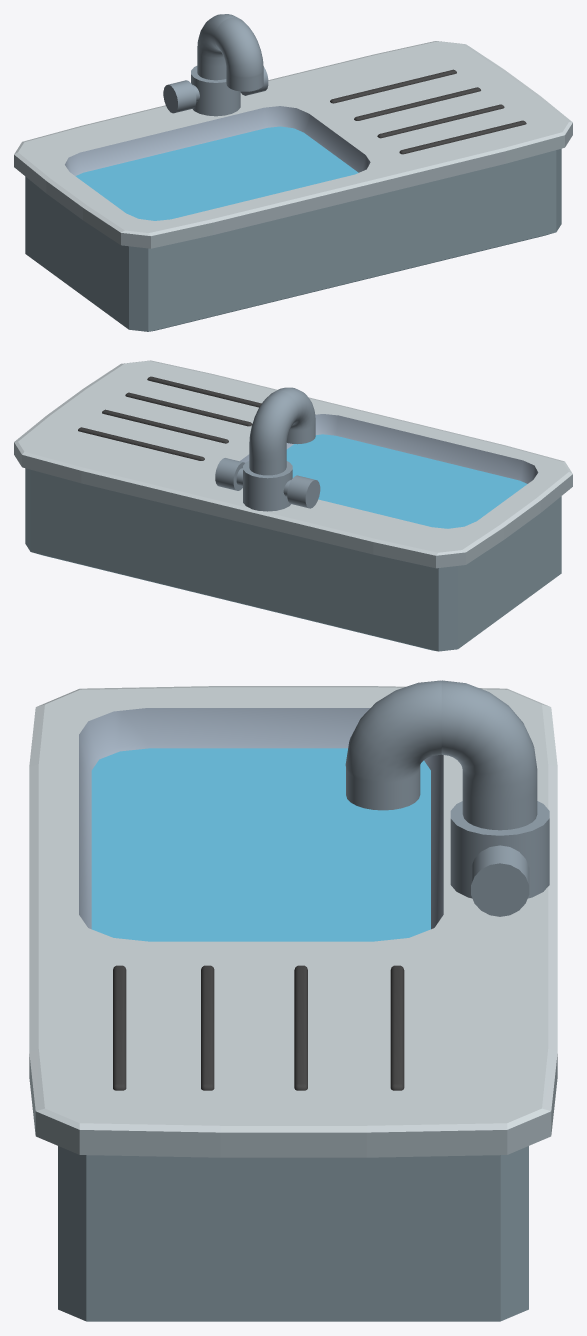
The model's file is Sink_Water_2.fbx.
3 renders of one model, top to bottom at view 1: azimuth 30°, elevation 25°; view 2: azimuth 150°, elevation 25°; view 3: azimuth 270°, elevation 25°, orthographic. The views are drawn at different scales.
Parts seen in each view (by area): view 1: Cook_Stand_B, Box001, Loft002, Cylinder006, Cylinder009, ChamferBox008, ChamferBox007, ChamferBox005, ChamferBox006; view 2: Cook_Stand_B, Box001, Loft002, Cylinder006, Cylinder009, Cylinder010, ChamferBox006, ChamferBox007, ChamferBox005, ChamferBox008; view 3: Cook_Stand_B, Box001, Loft002, Cylinder006, Cylinder010, ChamferBox005, ChamferBox008, ChamferBox006, ChamferBox007.
Boxes of the visible parts, x1,y1,x2,y2 form: Cook_Stand_B: [14, 41, 572, 331]; Box001: [75, 126, 358, 220]; Loft002: [197, 14, 263, 91]; Cylinder006: [191, 66, 240, 116]; Cylinder009: [163, 80, 196, 113]; ChamferBox008: [399, 120, 526, 154]; ChamferBox007: [377, 104, 504, 138]; ChamferBox005: [330, 69, 456, 103]; ChamferBox006: [354, 87, 480, 120]; Cook_Stand_B: [14, 360, 572, 651]; Box001: [286, 434, 527, 528]; Loft002: [249, 387, 315, 475]; Cylinder006: [243, 461, 292, 511]; Cylinder009: [287, 475, 320, 508]; Cylinder010: [215, 458, 244, 490]; ChamferBox006: [102, 409, 228, 443]; ChamferBox007: [125, 392, 252, 426]; ChamferBox005: [78, 427, 204, 460]; ChamferBox008: [147, 376, 261, 407]; Cook_Stand_B: [29, 686, 557, 1321]; Box001: [91, 748, 430, 941]; Loft002: [345, 680, 537, 830]; Cylinder006: [450, 801, 549, 898]; Cylinder010: [471, 845, 529, 916]; ChamferBox005: [390, 965, 404, 1090]; ChamferBox008: [113, 965, 126, 1090]; ChamferBox006: [294, 965, 307, 1090]; ChamferBox007: [201, 965, 214, 1090].
Bounding box in the file's own units: 84.56 × 35.98 × 42.28.
Materials: 5 (1 with a texture image).
